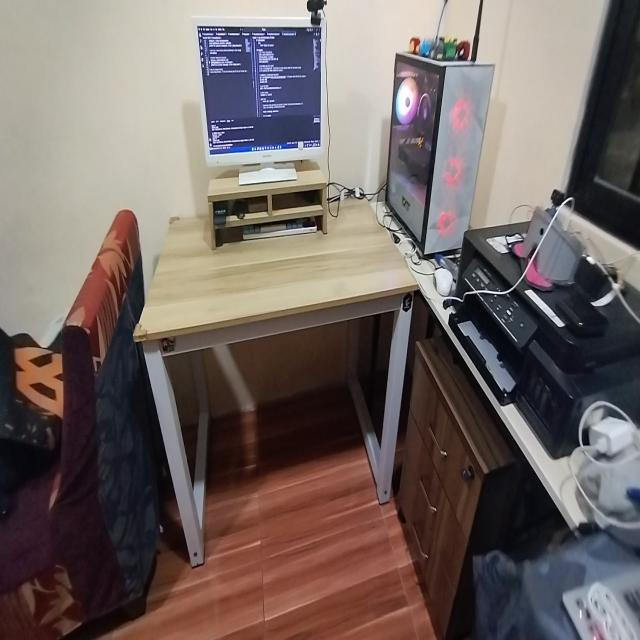table: (138, 188, 423, 545)
